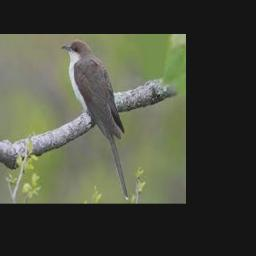Cuckoo: (62, 40, 129, 200)
